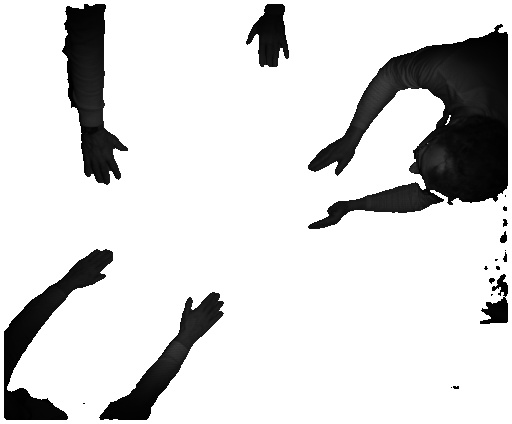hand: (304, 132, 357, 192), (240, 17, 295, 71), (81, 134, 127, 191), (178, 288, 223, 343), (63, 248, 119, 292)
spine: (304, 199, 359, 231)
